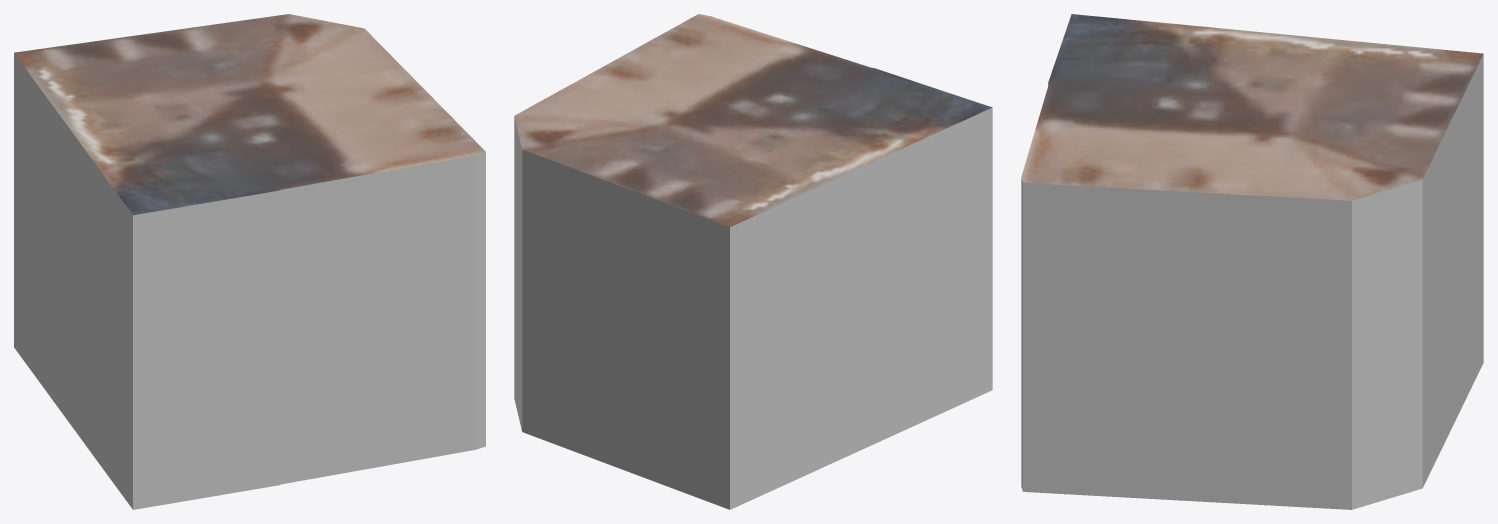
Rendered from DEBW_0010007Tx4s.gltf.
3 views of the same model, side by side, from view 1: azimuth 30°, elevation 25°; view 2: azimuth 150°, elevation 25°; view 3: azimuth 270°, elevation 25° (orthographic). The views are drawn at different scales.
Visible parts, largest first — view 1: Z_UP; view 2: Z_UP; view 3: Z_UP.
Part boxes in pixels (bbox=[...]): Z_UP: bbox=[14, 14, 485, 509]; Z_UP: bbox=[514, 14, 992, 509]; Z_UP: bbox=[1021, 14, 1483, 509].
Bounding box in the file's own units: 15.29 × 11.79 × 15.99.
2 materials, 1 textured.
